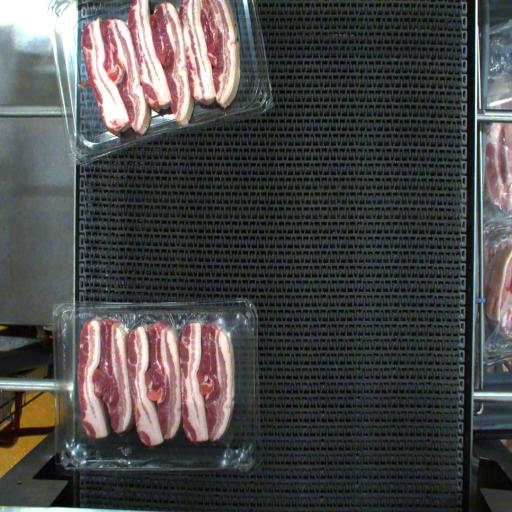unsealed: (64, 309, 250, 468)
